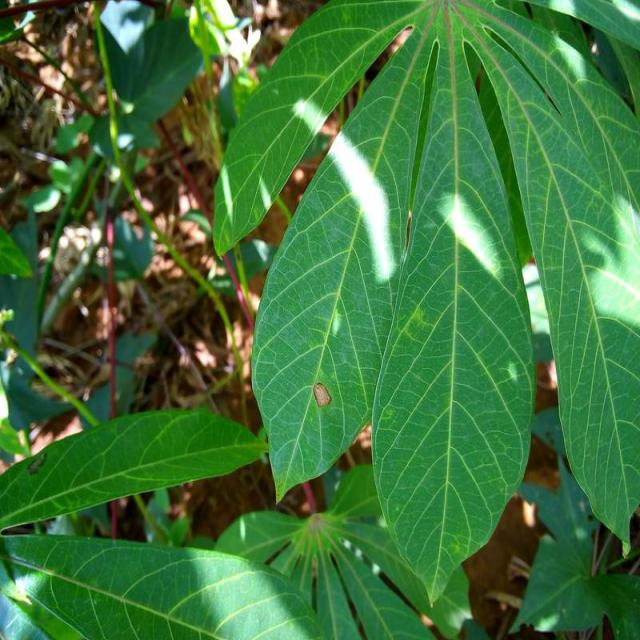cassava leaf: (212, 0, 638, 605)
